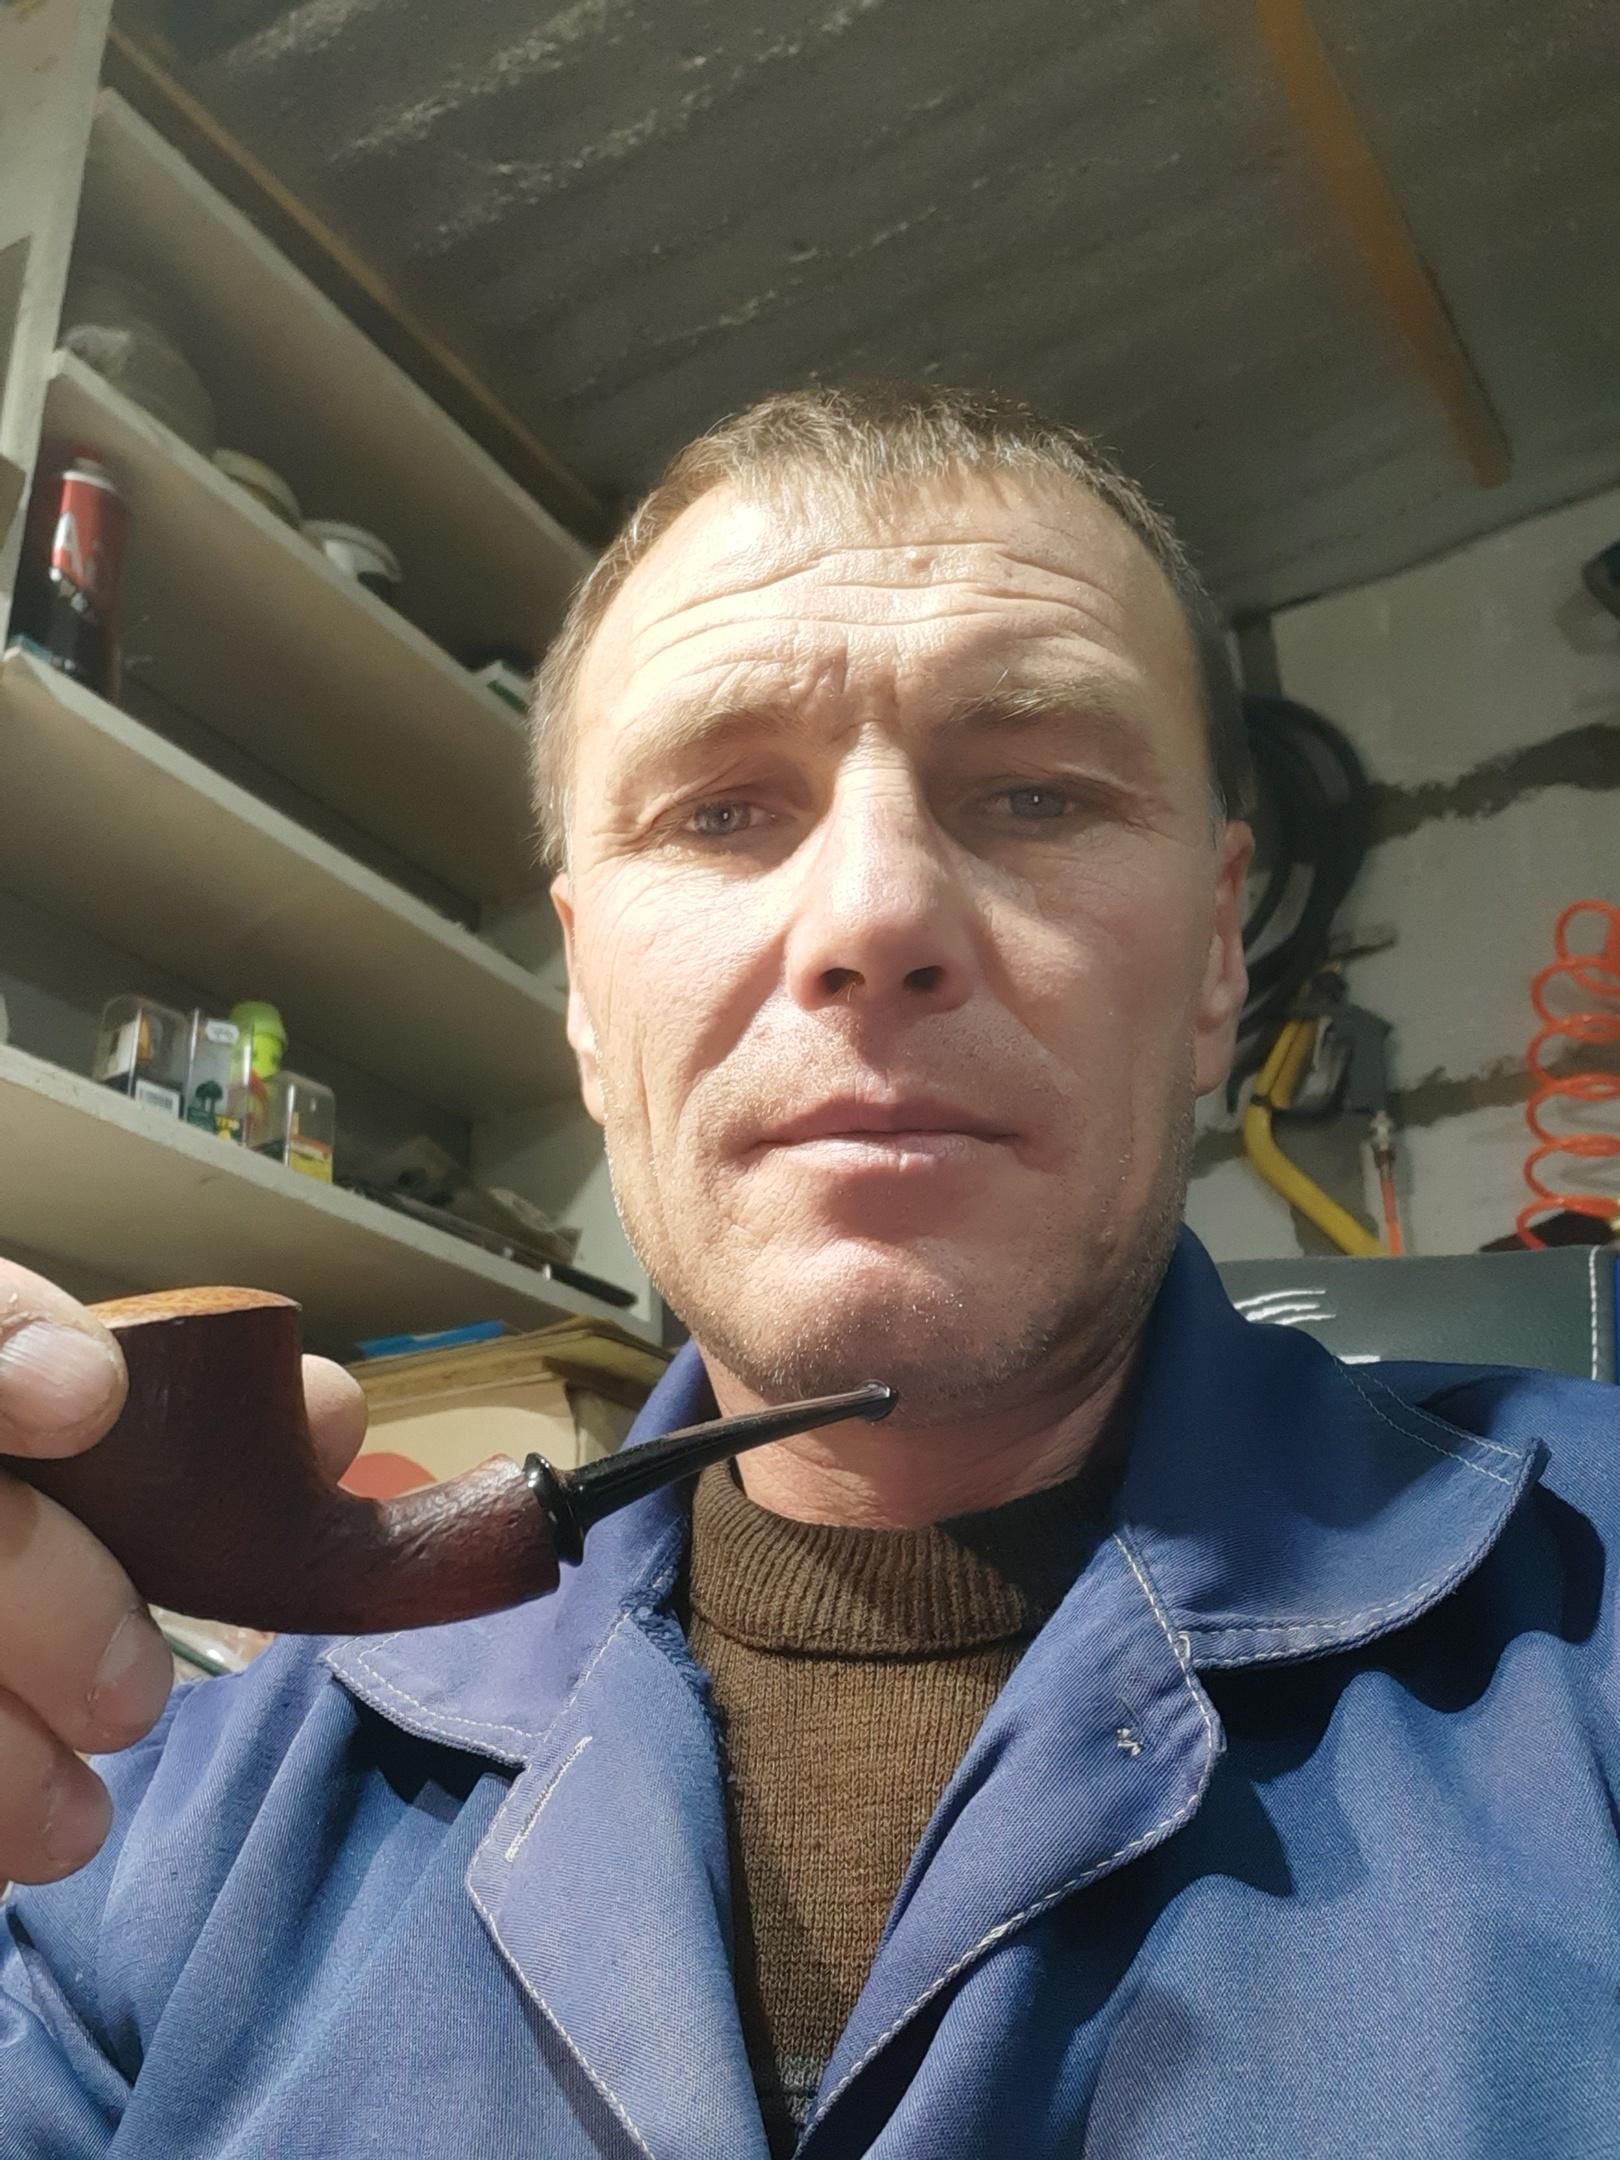trubka: (9, 1284, 897, 1634)
